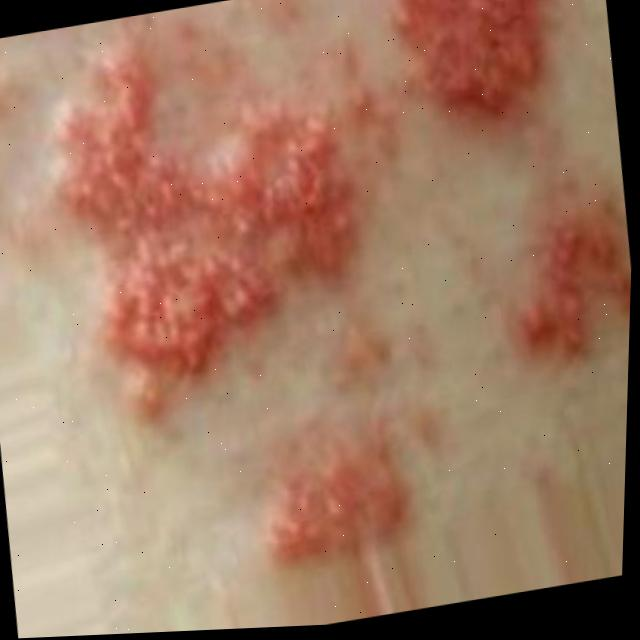Shingles: (18, 0, 383, 421), (377, 0, 561, 130), (251, 435, 420, 570), (497, 220, 633, 363)
